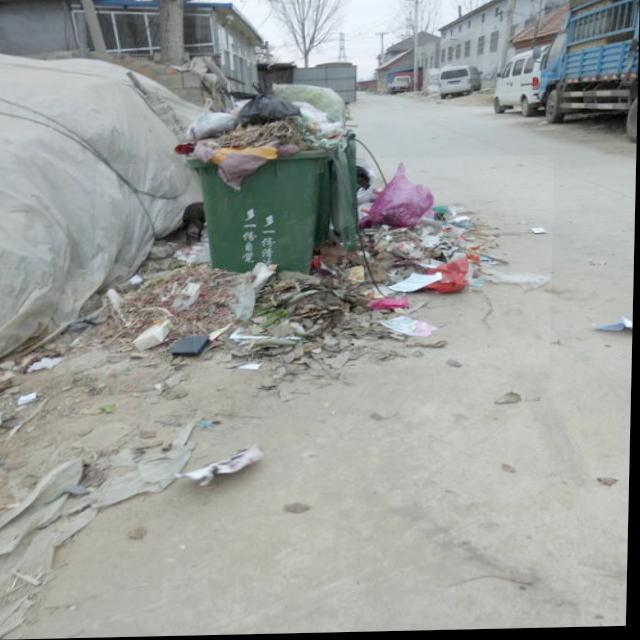garbage: (93, 157, 555, 374)
overflow: (181, 80, 352, 279)
